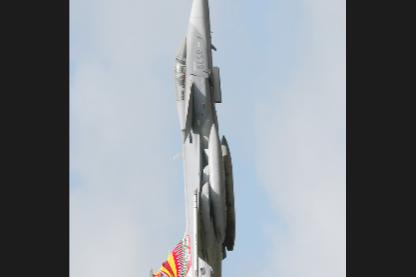JAS39: (138, 0, 236, 276)
